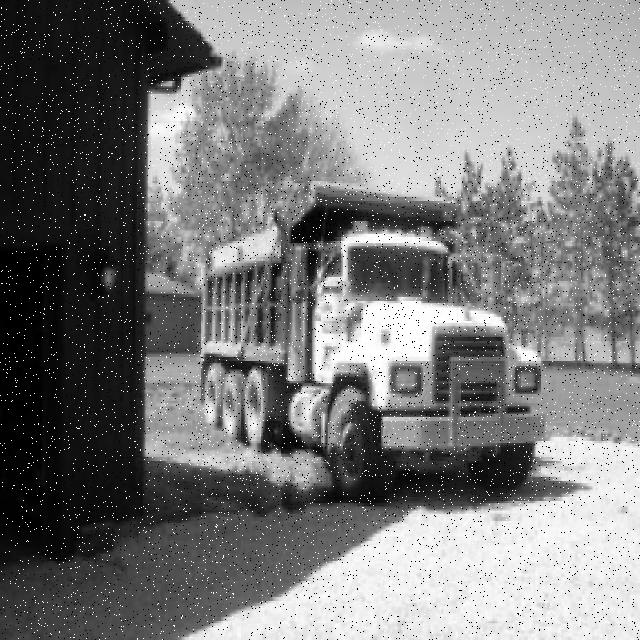Box Truck: (197, 182, 548, 504)
